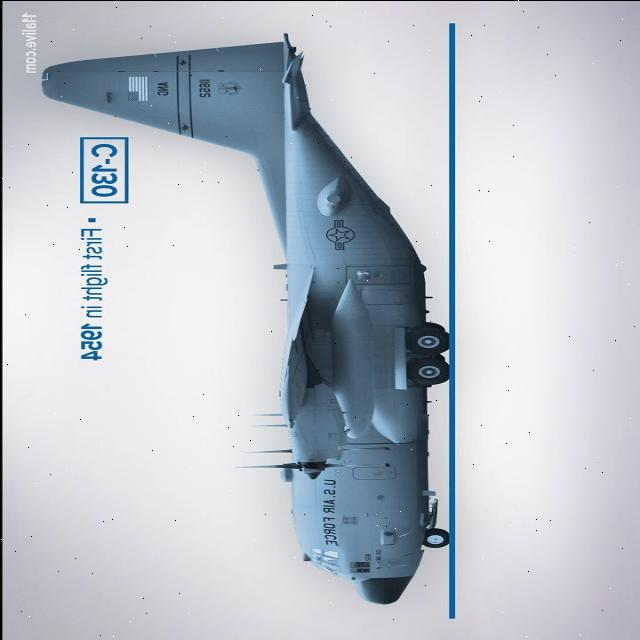C130: (6, 5, 507, 633)
